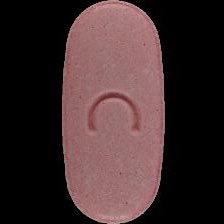12634-780: (0, 0, 224, 224)
